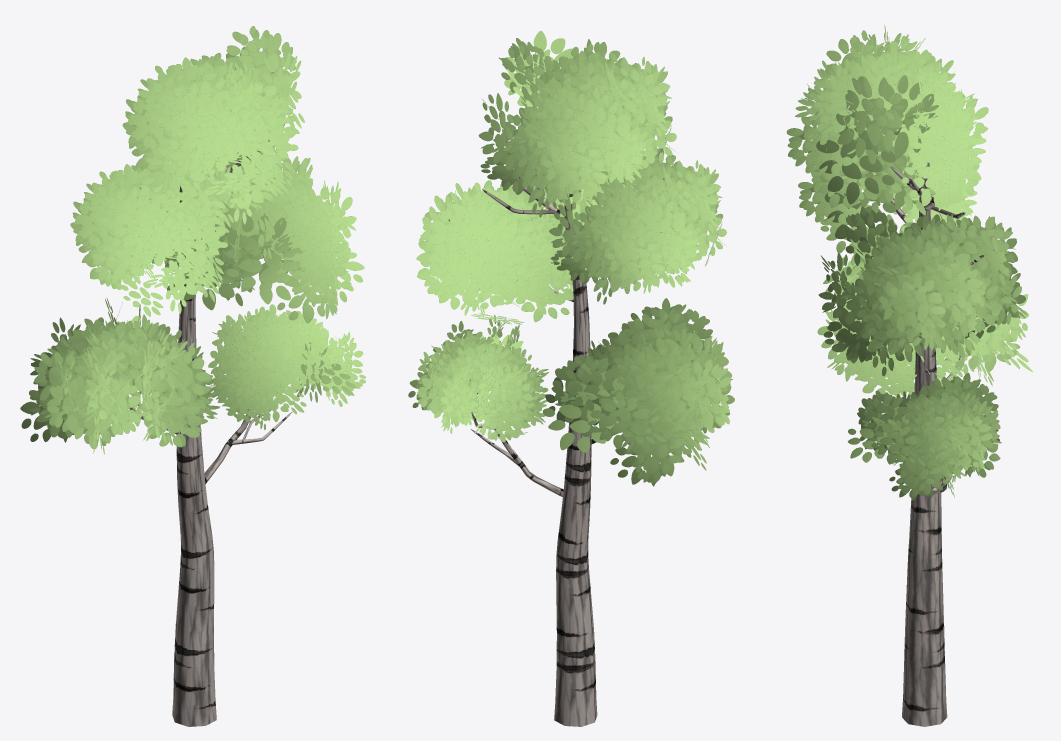
File: BirchTree_1.glb
3 renders of one model, left to right at view 1: azimuth 30°, elevation 25°; view 2: azimuth 150°, elevation 25°; view 3: azimuth 270°, elevation 25°, orthographic. The views are drawn at different scales.
Visible parts, largest first — view 1: BirchTree_1; view 2: BirchTree_1; view 3: BirchTree_1.
Part boxes in pixels (x1=…): BirchTree_1: x1=20, y1=26, x2=365, y2=726; BirchTree_1: x1=408, y1=31, x2=734, y2=726; BirchTree_1: x1=786, y1=25, x2=1032, y2=726.
Bounding box in the file's own units: 2.71 × 5.45 × 1.94.
2 materials, 2 textured.
